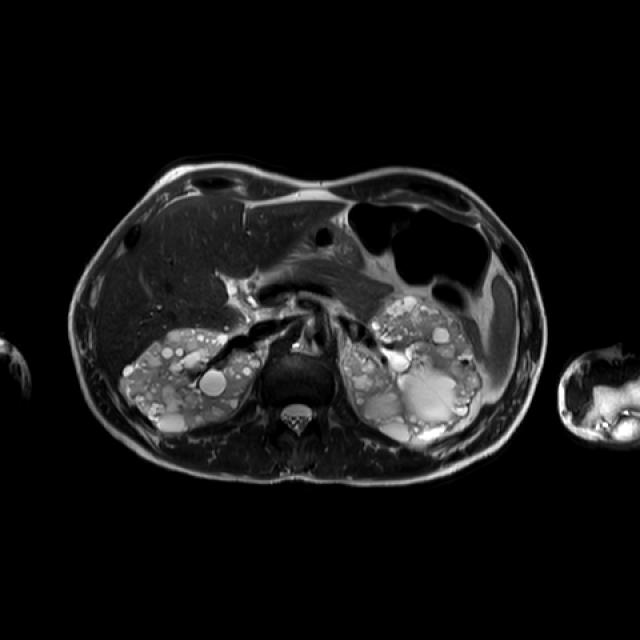sag: (122, 331, 262, 434)
sol: (346, 292, 483, 442)
